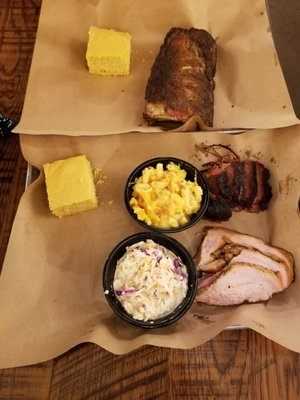soup: (142, 26, 218, 128)
sushi: (103, 232, 198, 330), (124, 156, 210, 234)
